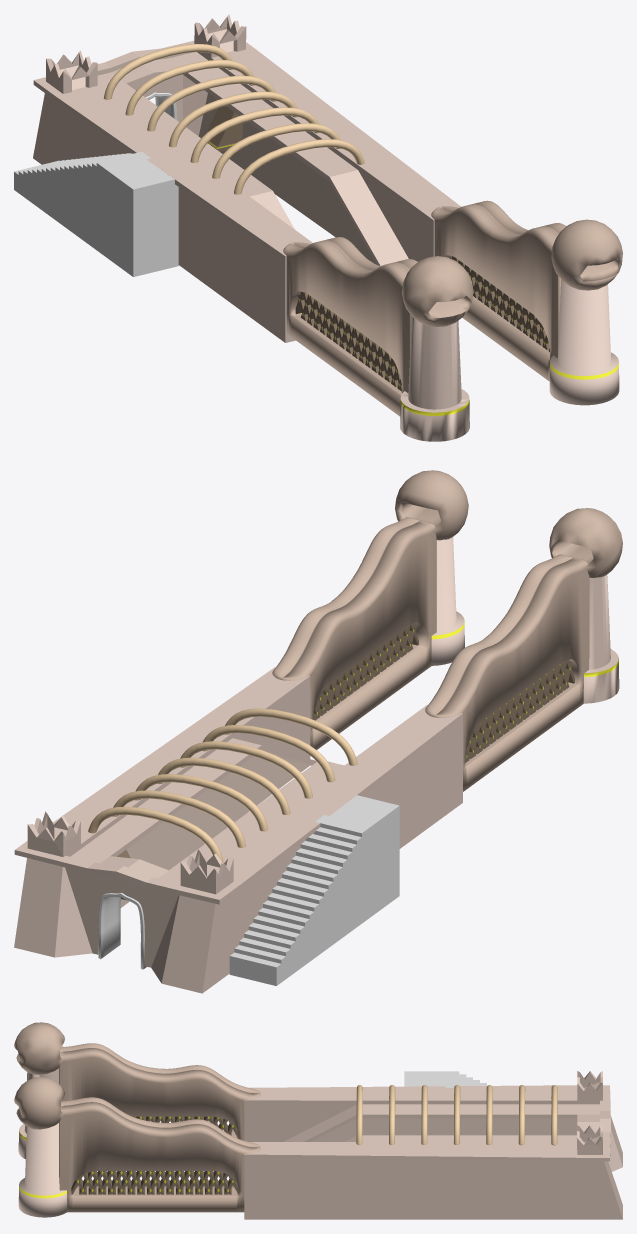
Rendered from market.fbx.
3 views of the same model, one above another, from view 1: azimuth 30°, elevation 25°; view 2: azimuth 150°, elevation 25°; view 3: azimuth 270°, elevation 25° (orthographic). The views are drawn at different scales.
Visible parts, largest first — view 1: StreetArch, wallMarketToTempleEntry, marketsidestairs, marketpillar, marketroof, market_windows, pillarhead.L, pillarhead.R, market_anglepillar; view 2: StreetArch, wallMarketToTempleEntry, marketsidestairs, marketroof, marketpillar, market_windows, pillarhead.R, pillarhead.L, door; view 3: StreetArch, wallMarketToTempleEntry, market_windows, marketpillar, marketroof, pillarhead.L, pillarhead.R, marketsidestairs.
Boxes of the visible parts, left/top/right/bottom form: StreetArch: left=33, top=14, right=461, bottom=342; wallMarketToTempleEntry: left=283, top=200, right=566, bottom=416; marketsidestairs: left=14, top=151, right=178, bottom=276; marketpillar: left=400, top=279, right=619, bottom=441; marketroof: left=103, top=44, right=364, bottom=194; market_windows: left=295, top=256, right=549, bottom=391; pillarhead.L: left=551, top=219, right=622, bottom=290; pillarhead.R: left=402, top=256, right=473, bottom=326; market_anglepillar: left=206, top=106, right=243, bottom=151; StreetArch: left=14, top=667, right=462, bottom=993; wallMarketToTempleEntry: left=272, top=517, right=589, bottom=791; marketsidestairs: left=229, top=795, right=399, bottom=985; marketroof: left=88, top=708, right=357, bottom=862; marketpillar: left=431, top=537, right=619, bottom=703; market_windows: left=313, top=623, right=574, bottom=762; pillarhead.R: left=549, top=508, right=622, bottom=577; pillarhead.L: left=395, top=470, right=468, bottom=540; door: left=98, top=892, right=146, bottom=969; StreetArch: left=244, top=1071, right=622, bottom=1219; wallMarketToTempleEntry: left=59, top=1043, right=260, bottom=1212; market_windows: left=71, top=1116, right=239, bottom=1194; marketpillar: left=18, top=1068, right=67, bottom=1217; marketroof: left=356, top=1085, right=557, bottom=1145; pillarhead.L: left=14, top=1077, right=64, bottom=1129; pillarhead.R: left=14, top=1022, right=64, bottom=1074; marketsidestairs: left=404, top=1071, right=486, bottom=1087.
Size of the model in its own units: 329 by 237 by 955.
